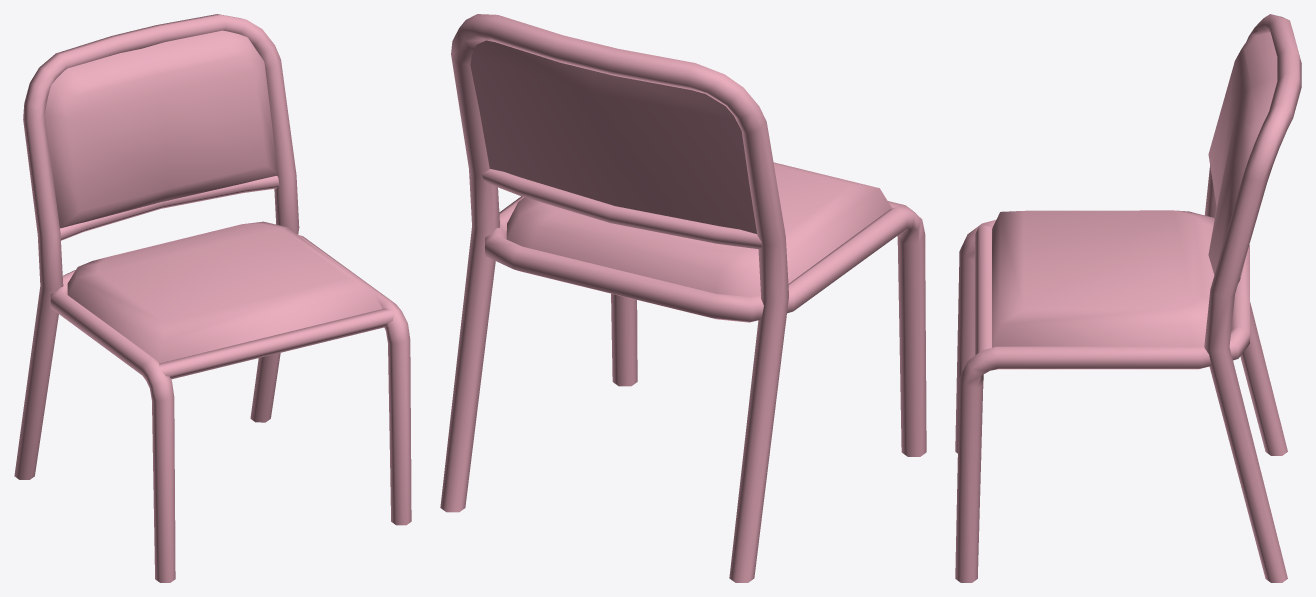
File: Chair.fbx
3 views of the same model, side by side, from view 1: azimuth 30°, elevation 25°; view 2: azimuth 150°, elevation 25°; view 3: azimuth 270°, elevation 25° (orthographic). The views are drawn at different scales.
Visible parts, largest first — view 1: Chair; view 2: Chair; view 3: Chair.
Boxes of the visible parts, bbox=[...] form: Chair: bbox=[14, 14, 411, 582]; Chair: bbox=[440, 14, 926, 582]; Chair: bbox=[955, 14, 1301, 582].
Bounding box in the file's own units: 53.68 × 83.37 × 57.42.
